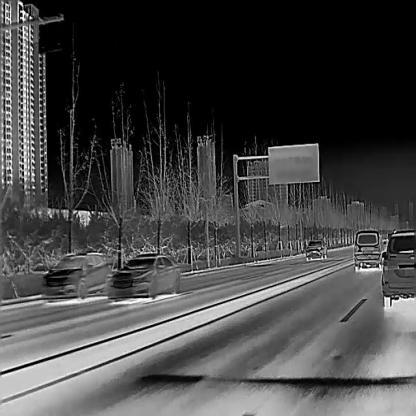car: (107, 253, 181, 300), (42, 251, 108, 302), (381, 228, 416, 307), (354, 228, 382, 269), (306, 238, 326, 259)
